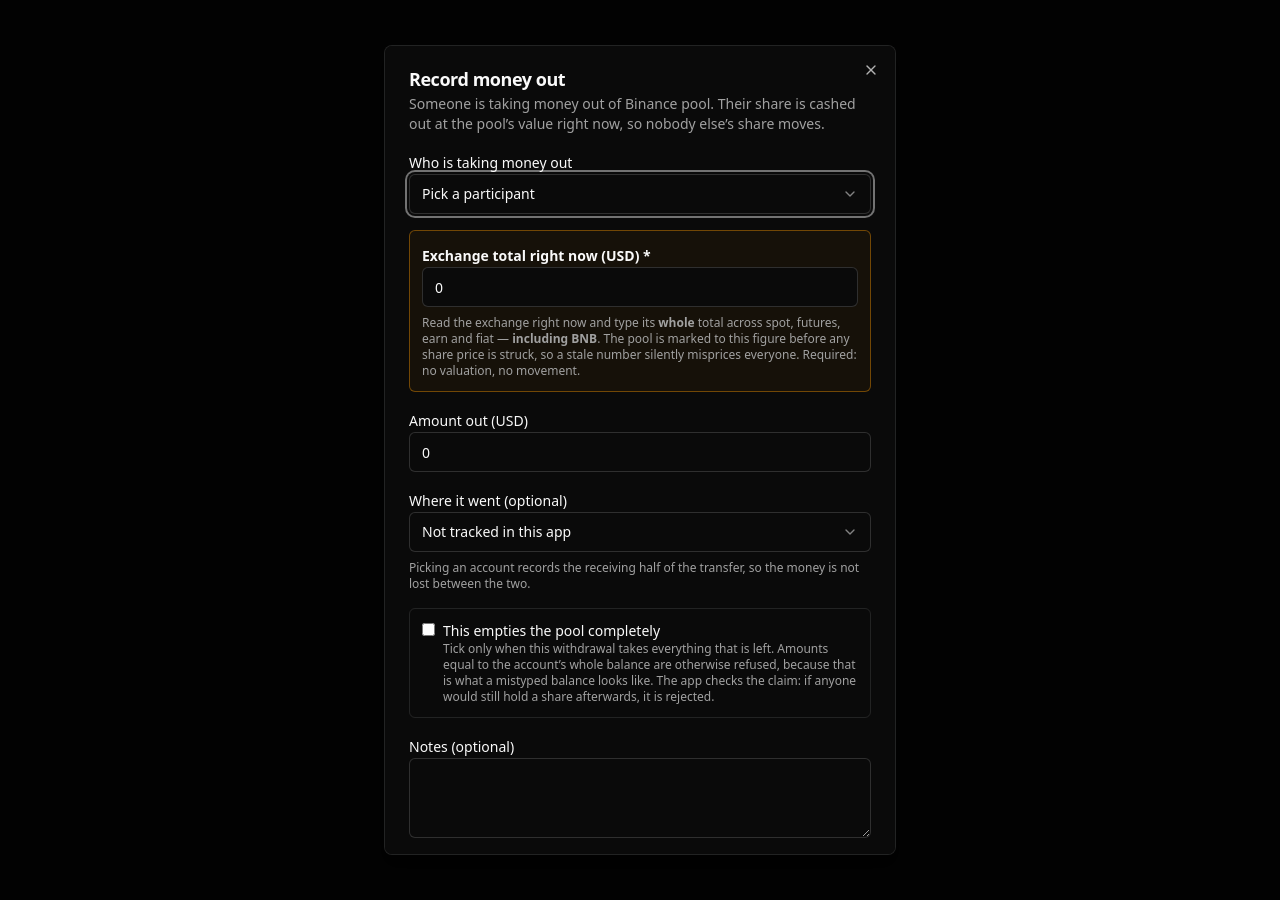
it: amount validation › rejects a zero redemption
Click the dropdown with test id "redemption-participant-select": (478, 194) [409, 174, 871, 214]
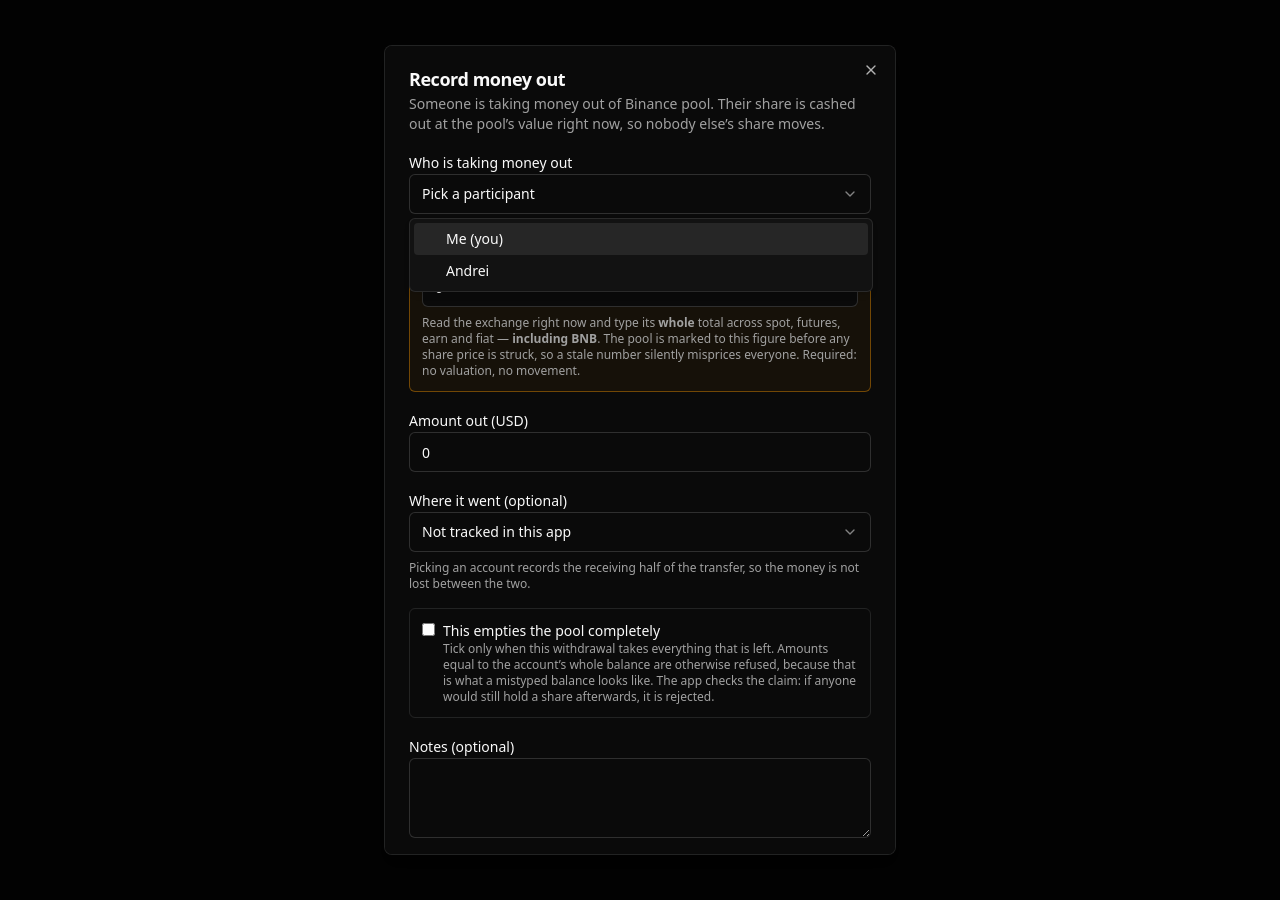
Click the option "Andrei": (468, 270) [446, 261, 489, 280]
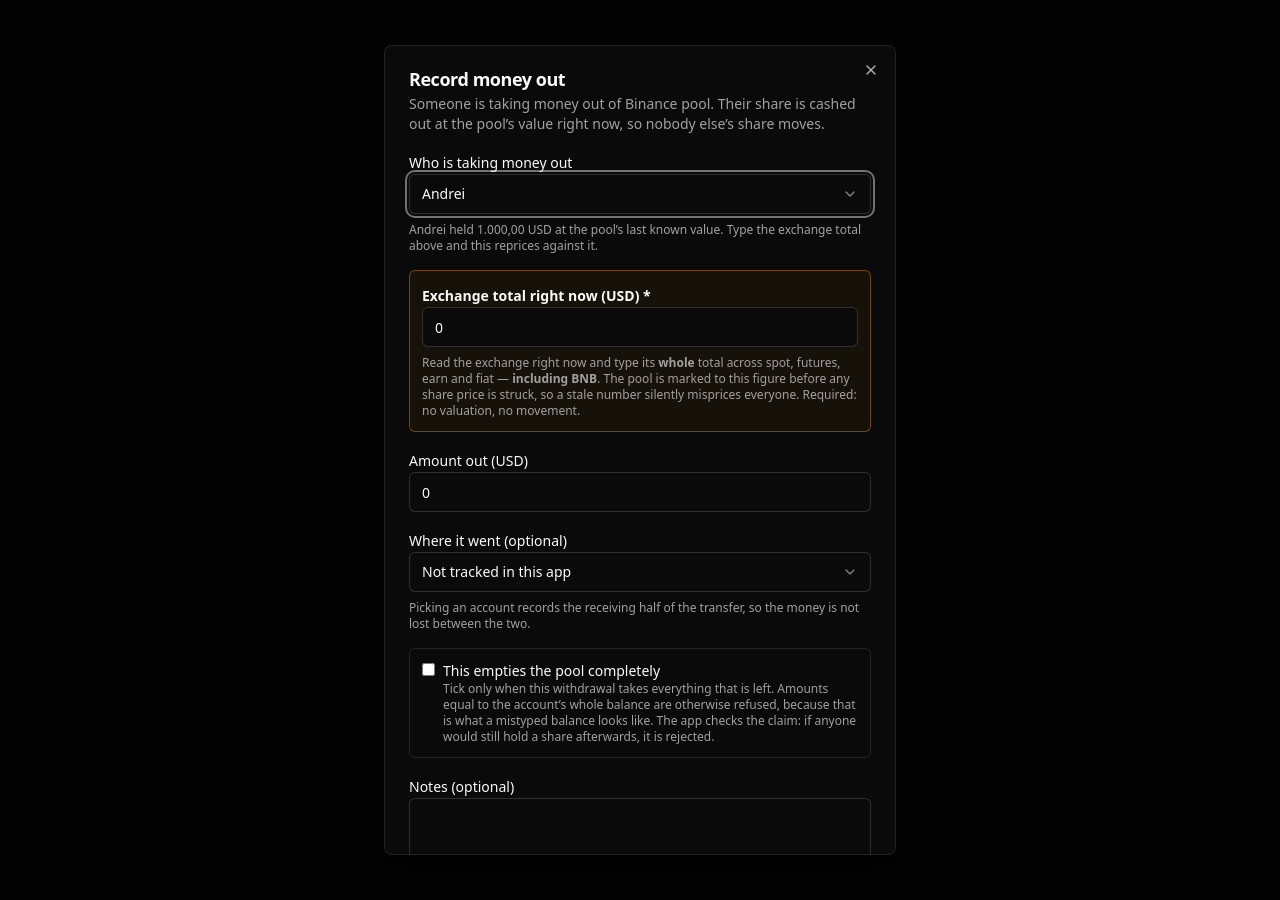
Replace the text in the number field with test id "redemption-pool-value-input" with "2500": (640, 327) [422, 307, 858, 347]
(page scrolled)
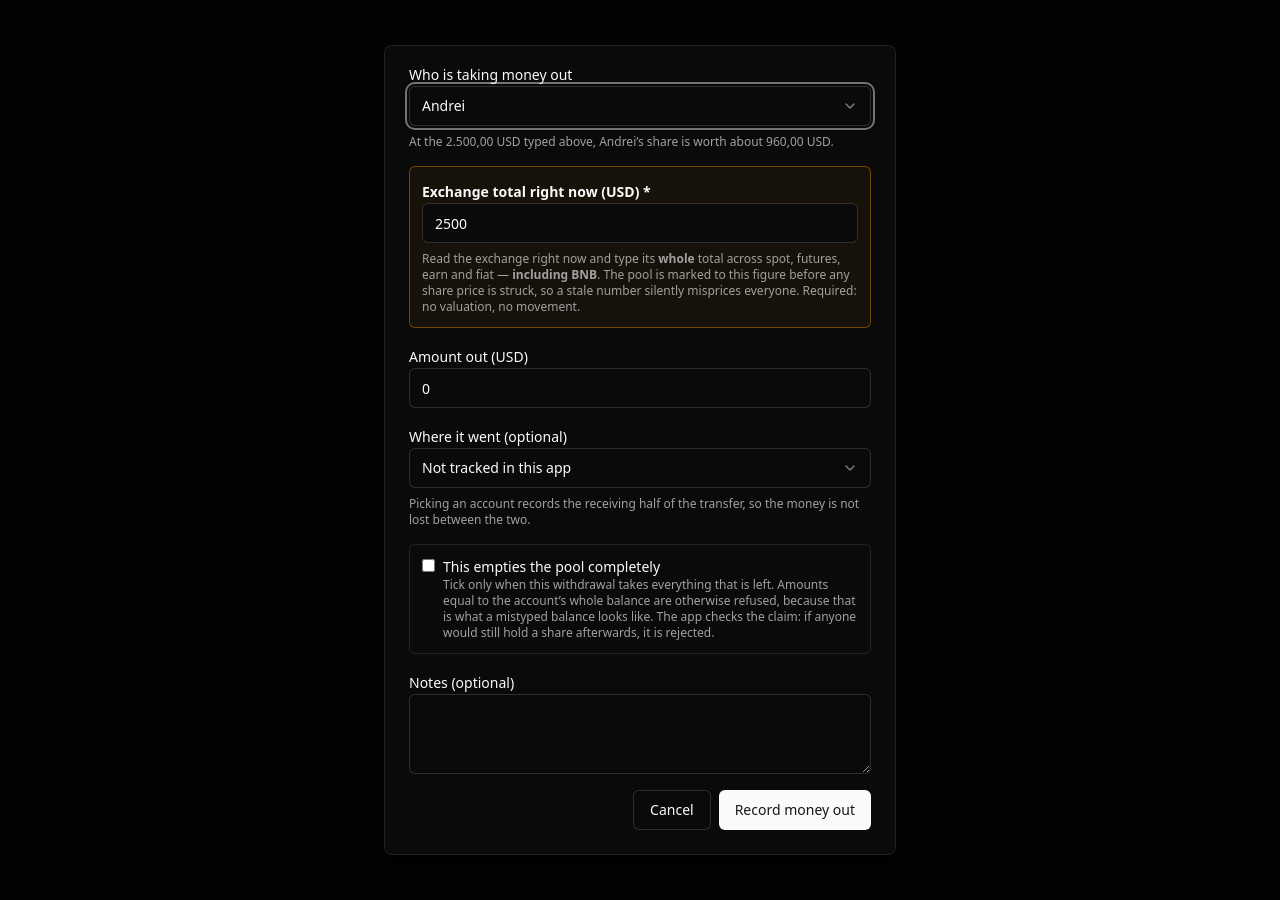
Click the button with test id "redemption-submit-button": (795, 810) [719, 790, 871, 830]
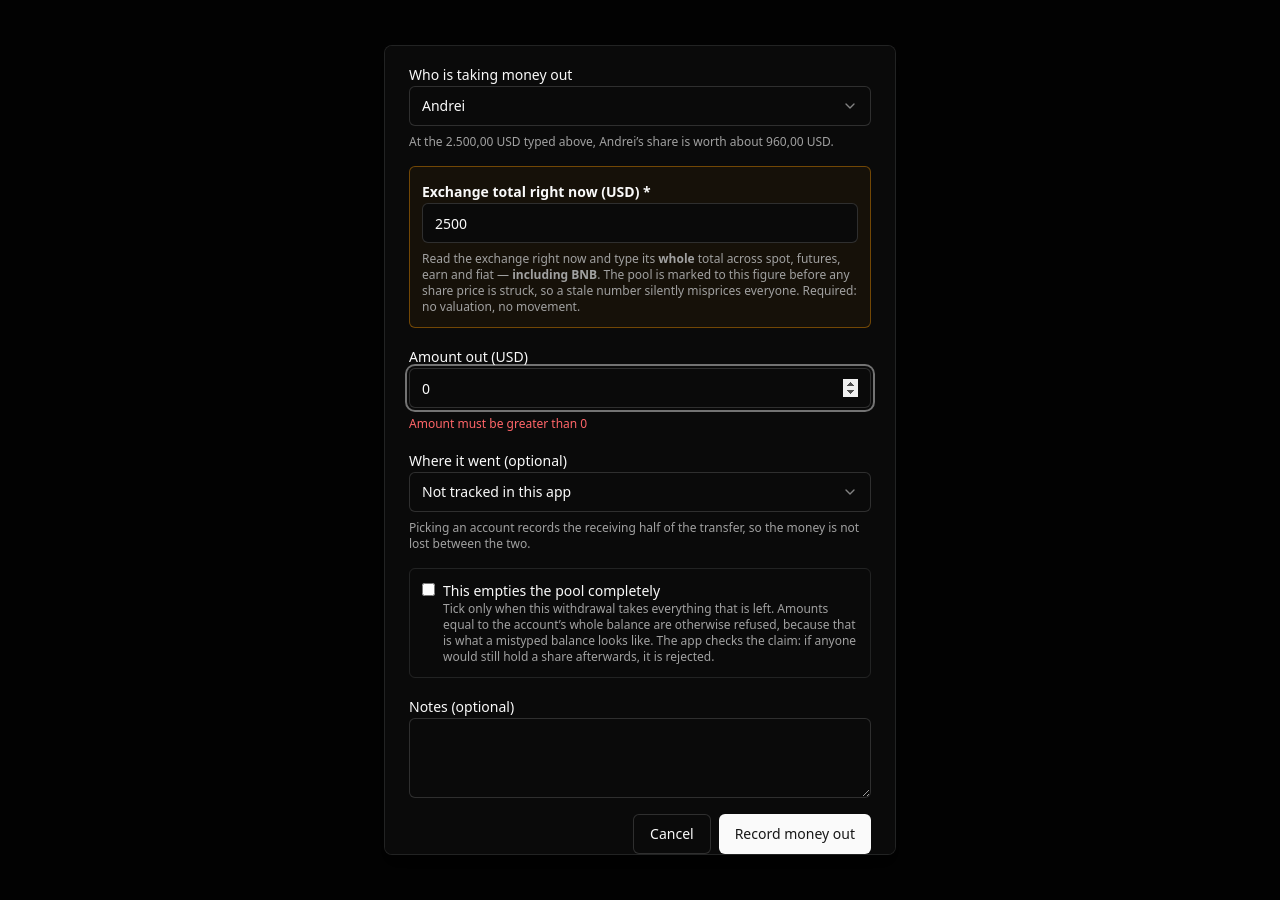
Check: the message with test id "redemption-cash-error" reads "Amount must be greater than 0", box [409, 415, 587, 432]
